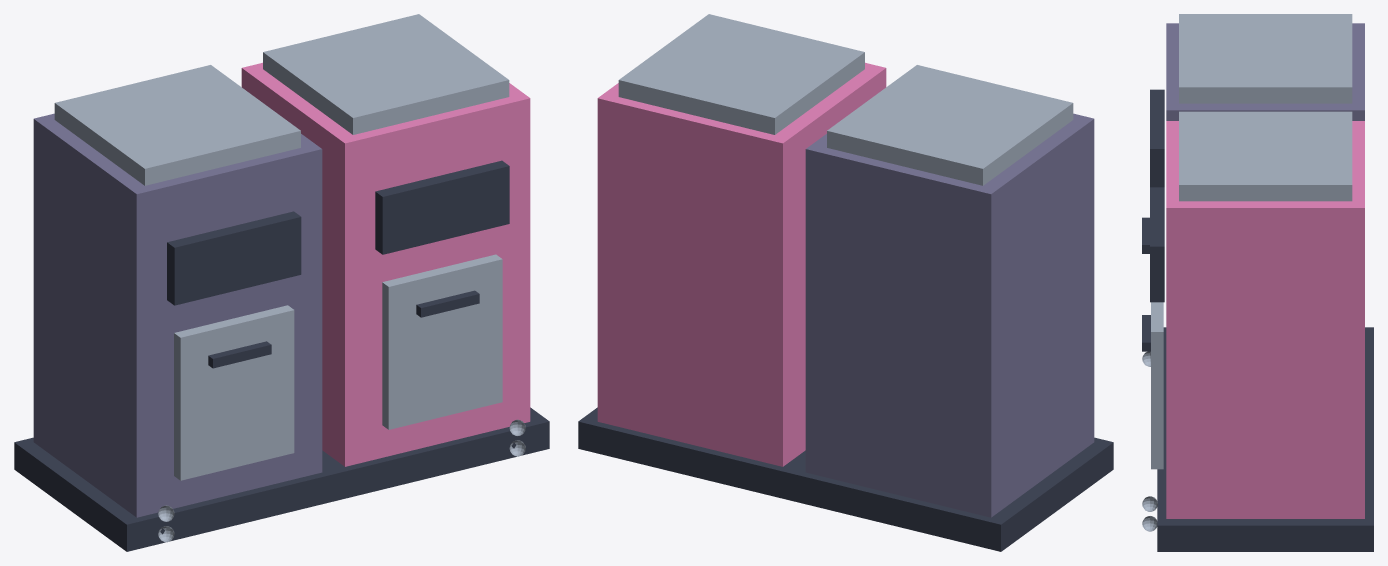
Rendered from neon-dispatch-street-recycling-station__183.glb.
3 renders of one model, left to right at view 1: azimuth 30°, elevation 25°; view 2: azimuth 150°, elevation 25°; view 3: azimuth 270°, elevation 25°, orthographic. The views are drawn at different scales.
Visible parts, largest first — view 1: metal, shell, accent, dark; view 2: shell, accent, metal, dark; view 3: accent, metal, dark, shell.
Boxes of the visible parts, bbox=[...] form: metal: bbox=[54, 14, 525, 542]; shell: bbox=[33, 113, 322, 517]; accent: bbox=[241, 62, 530, 466]; dark: bbox=[14, 160, 549, 551]; shell: bbox=[805, 113, 1094, 517]; accent: bbox=[597, 62, 886, 466]; metal: bbox=[618, 14, 1073, 185]; dark: bbox=[578, 407, 1113, 551]; accent: bbox=[1166, 121, 1364, 518]; metal: bbox=[1142, 14, 1352, 531]; dark: bbox=[1142, 89, 1373, 551]; shell: bbox=[1166, 23, 1364, 120].
Size of the model in its own units: 1.3 by 1.08 by 0.6425.
